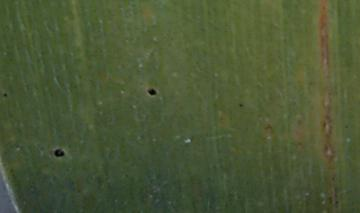tarspot: (53, 148, 65, 158), (148, 88, 157, 97), (2, 92, 8, 98), (238, 103, 244, 109)
